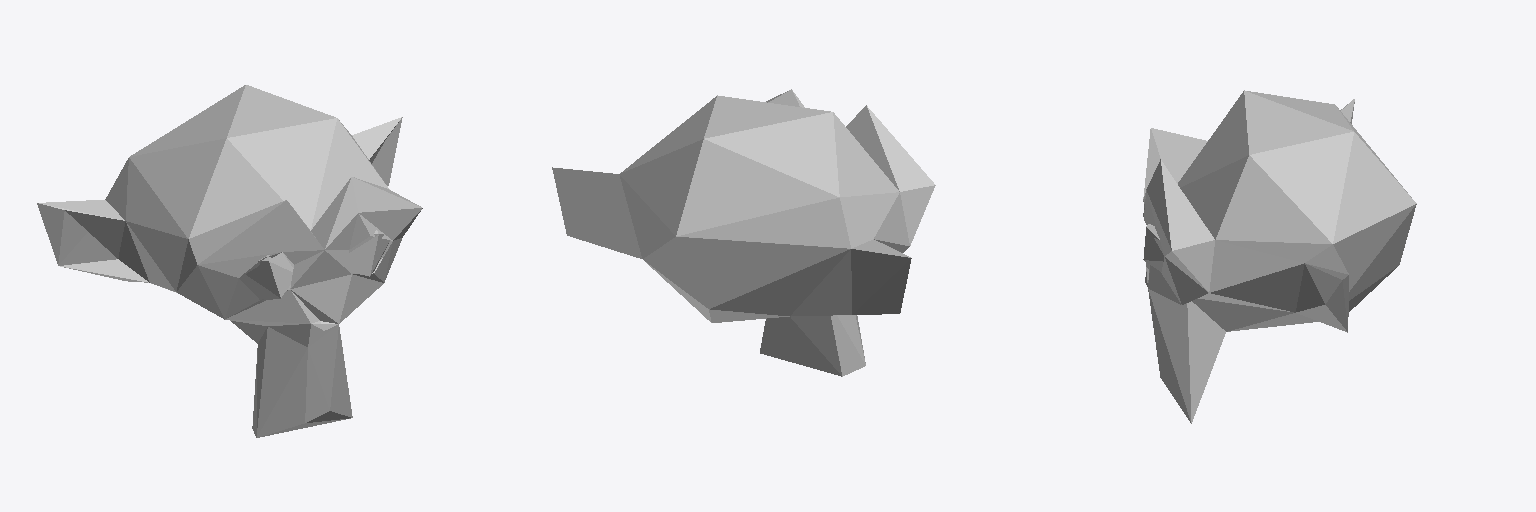
Rendered from suzanne.obj.
3 renders of one model, left to right at view 1: azimuth 30°, elevation 25°; view 2: azimuth 150°, elevation 25°; view 3: azimuth 270°, elevation 25°, orthographic.
Parts seen in each view (by area): view 1: Suzanne; view 2: Suzanne; view 3: Suzanne.
Boxes of the visible parts, x1=… form: Suzanne: x1=37, y1=85, x2=422, y2=437; Suzanne: x1=552, y1=89, x2=935, y2=376; Suzanne: x1=1143, y1=90, x2=1416, y2=423.
Bounding box in the file's own units: 2.6 × 1.95 × 1.7.